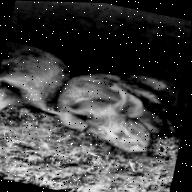boar: (47, 64, 173, 161), (0, 40, 73, 128)
